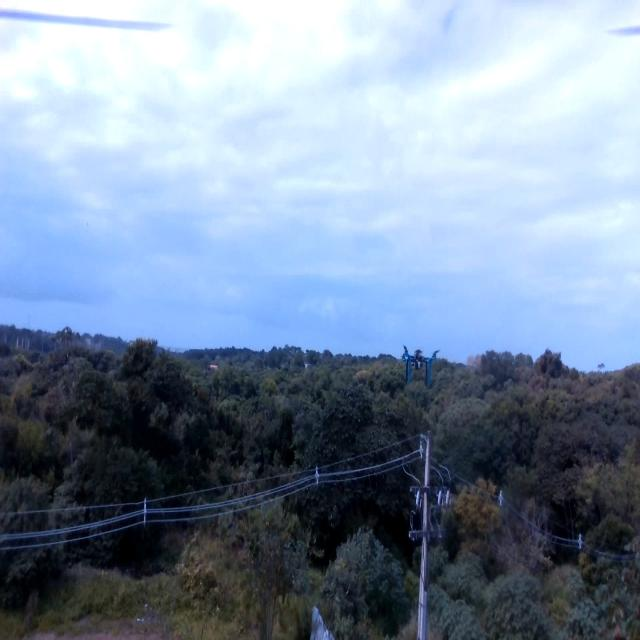-uav-: (398, 329, 442, 397)
